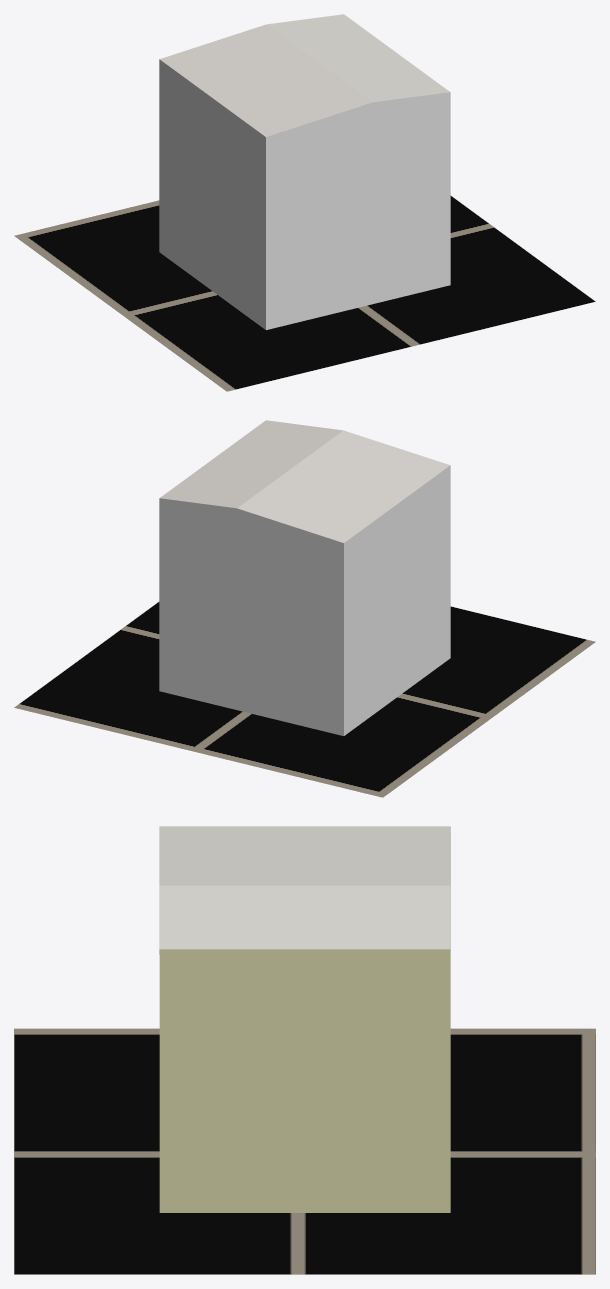
Rendered from Cave_Center_Base_1x1.glb.
3 views of the same model, one above another, from view 1: azimuth 30°, elevation 25°; view 2: azimuth 150°, elevation 25°; view 3: azimuth 270°, elevation 25° (orthographic). The views are drawn at different scales.
Visible parts, largest first — view 1: Cave_Center_Base_1x1, Floor; view 2: Cave_Center_Base_1x1, Floor; view 3: Cave_Center_Base_1x1, Floor.
Part boxes in pixels (bbox=[...]): Cave_Center_Base_1x1: bbox=[159, 14, 450, 329]; Floor: bbox=[14, 195, 595, 391]; Cave_Center_Base_1x1: bbox=[159, 420, 450, 735]; Floor: bbox=[14, 601, 595, 797]; Cave_Center_Base_1x1: bbox=[159, 826, 450, 1212]; Floor: bbox=[14, 1028, 595, 1274].
Size of the model in its own units: 200 by 105 by 200.
4 materials, 1 textured.
